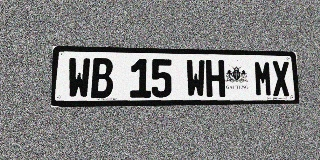1: (130, 59, 151, 98)
5: (152, 59, 172, 98)
B: (91, 58, 113, 98)
H: (206, 60, 225, 97)
M: (254, 61, 273, 97)
W: (67, 58, 91, 98), (186, 60, 206, 97)
X: (272, 61, 290, 96)
